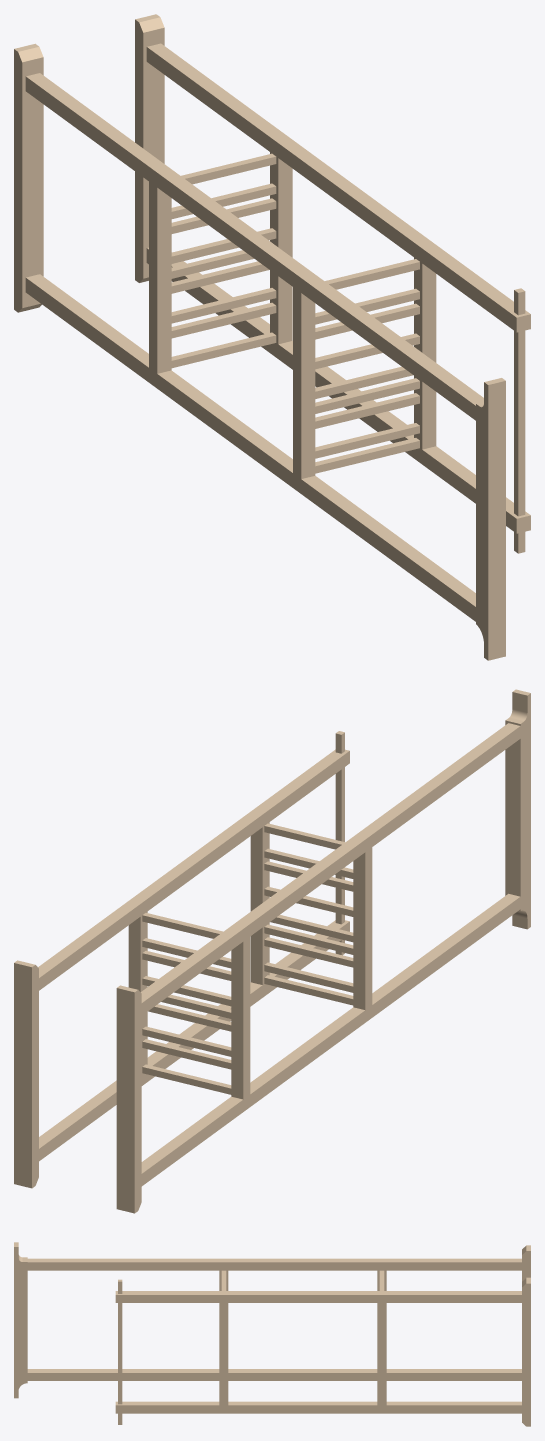
The model's file is towel-palace.obj.
3 views of the same model, one above another, from view 1: azimuth 30°, elevation 25°; view 2: azimuth 150°, elevation 25°; view 3: azimuth 270°, elevation 25° (orthographic). The views are drawn at different scales.
Parts seen in each view (by area): view 1: Body2, Body1, Body4, Body96, Body72, Body3, Body71, Body6, Body5, Body8, Body7, Body69 (+18 smaller); view 2: Body2, Body1, Body4, Body72, Body71, Body96, Body3, Body5, Body6, Body7, Body8, Body69 (+18 smaller); view 3: Body2, Body1, Body3, Body4, Body96, Body71, Body8, Body7, Body69, Body72.
Part boxes in pixels (x1,y1,x2,y2): Body2: (25, 73, 483, 421); Body1: (25, 274, 477, 622); Body4: (146, 43, 530, 332); Body96: (476, 378, 505, 660); Body72: (14, 43, 43, 312); Body3: (146, 247, 530, 533); Body71: (135, 14, 164, 282); Body6: (149, 182, 171, 373); Body5: (293, 287, 315, 478); Body8: (270, 152, 292, 344); Body7: (414, 257, 436, 449); Body69: (514, 288, 525, 553); Body2: (141, 723, 520, 1015); Body1: (141, 893, 520, 1186); Body4: (38, 749, 349, 990); Body72: (116, 985, 141, 1213); Body71: (14, 960, 38, 1188); Body96: (505, 689, 530, 929); Body3: (39, 920, 349, 1161); Body5: (353, 847, 372, 1009); Body6: (231, 937, 250, 1099); Body7: (250, 822, 269, 984); Body8: (128, 911, 147, 1073); Body69: (335, 731, 344, 955); Body2: (27, 1258, 521, 1270); Body1: (27, 1369, 521, 1380); Body3: (115, 1401, 521, 1413); Body4: (115, 1291, 521, 1302); Body96: (14, 1242, 27, 1398); Body71: (522, 1277, 530, 1426); Body8: (377, 1303, 386, 1405); Body7: (219, 1303, 228, 1405); Body69: (118, 1279, 122, 1424); Body72: (522, 1245, 530, 1281).
Size of the model in its own units: 20 by 37 by 114.
